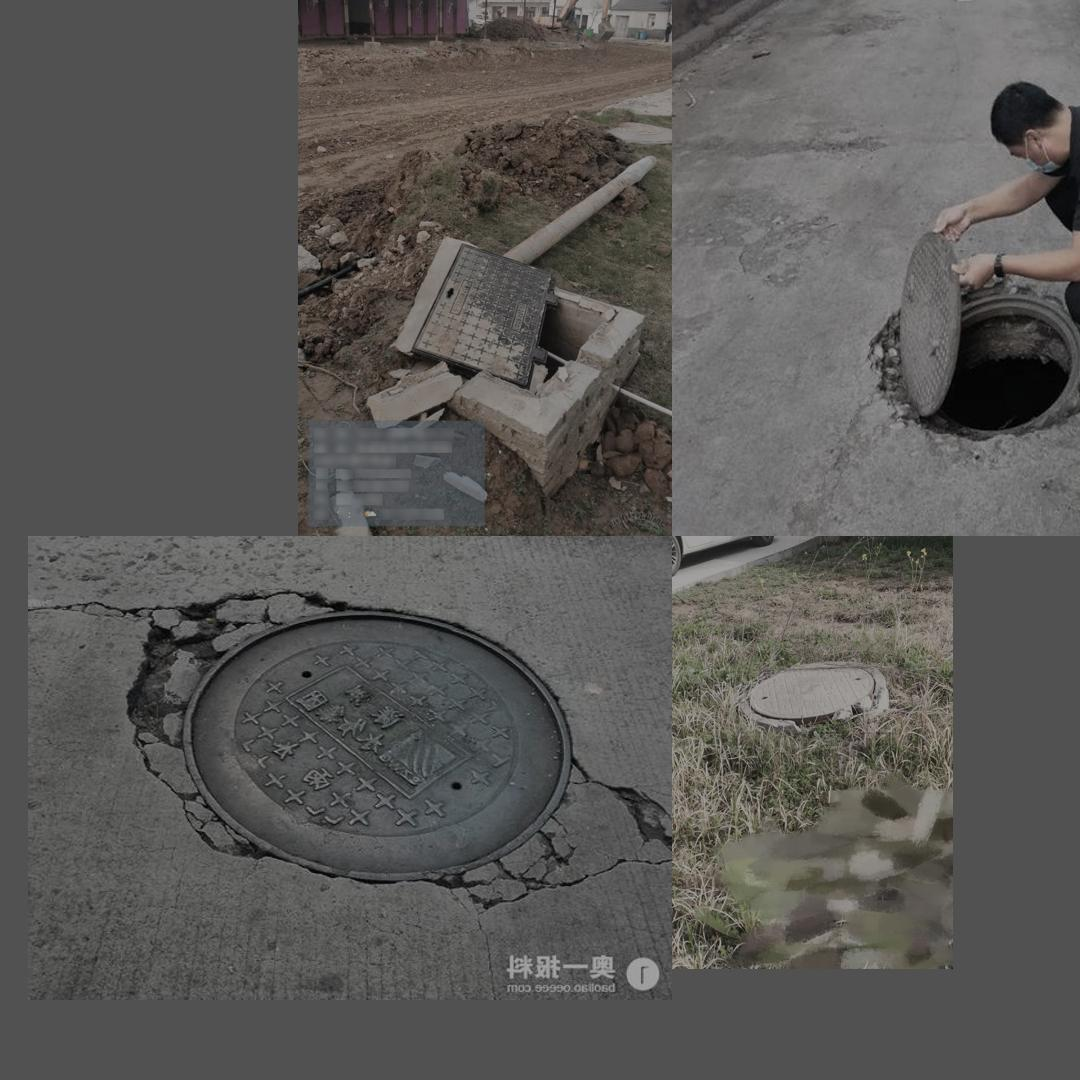circle: (116, 578, 659, 908), (849, 247, 1080, 461), (375, 234, 628, 422), (729, 656, 887, 735)
